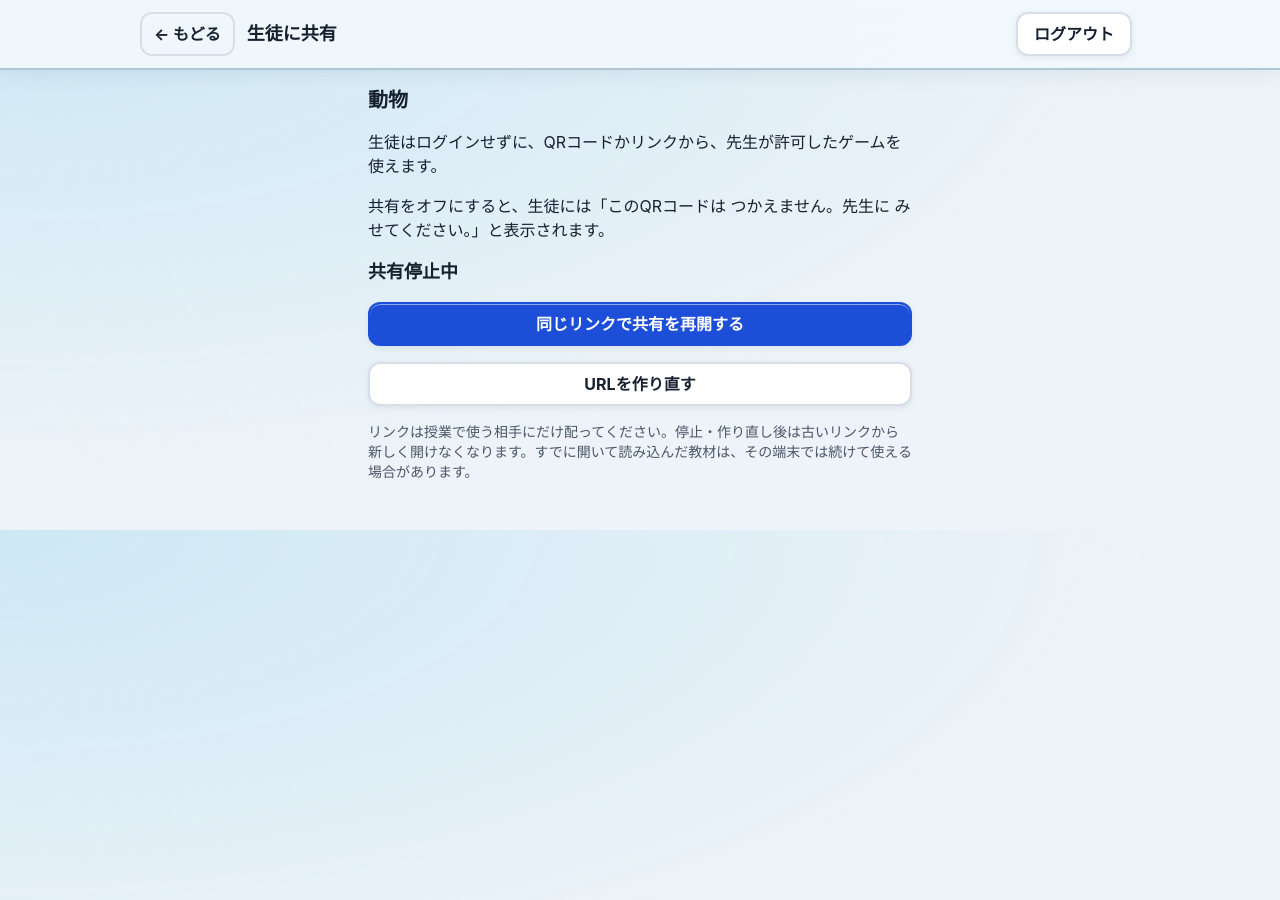
Test: 共有失敗を表示し停止中の状態を維持する
The image size is (1280, 900).
Click the button "同じリンクで共有を再開する": (640, 324) [368,302,912,346]
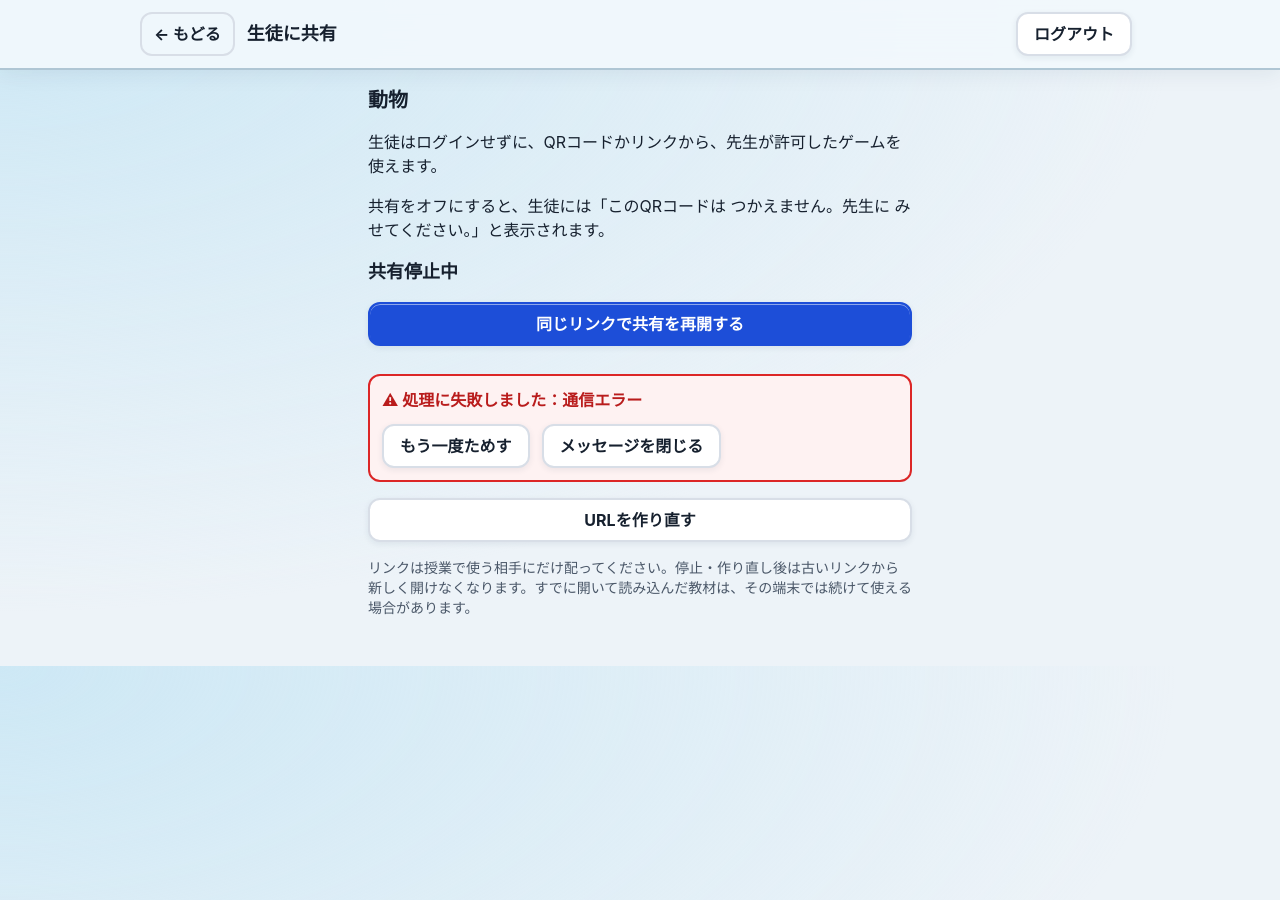
Expected: the message "⚠ 処理に失敗しました：通信エラー もう一度ためす メッセージを閉じる" is shown, [368,374,912,482]
